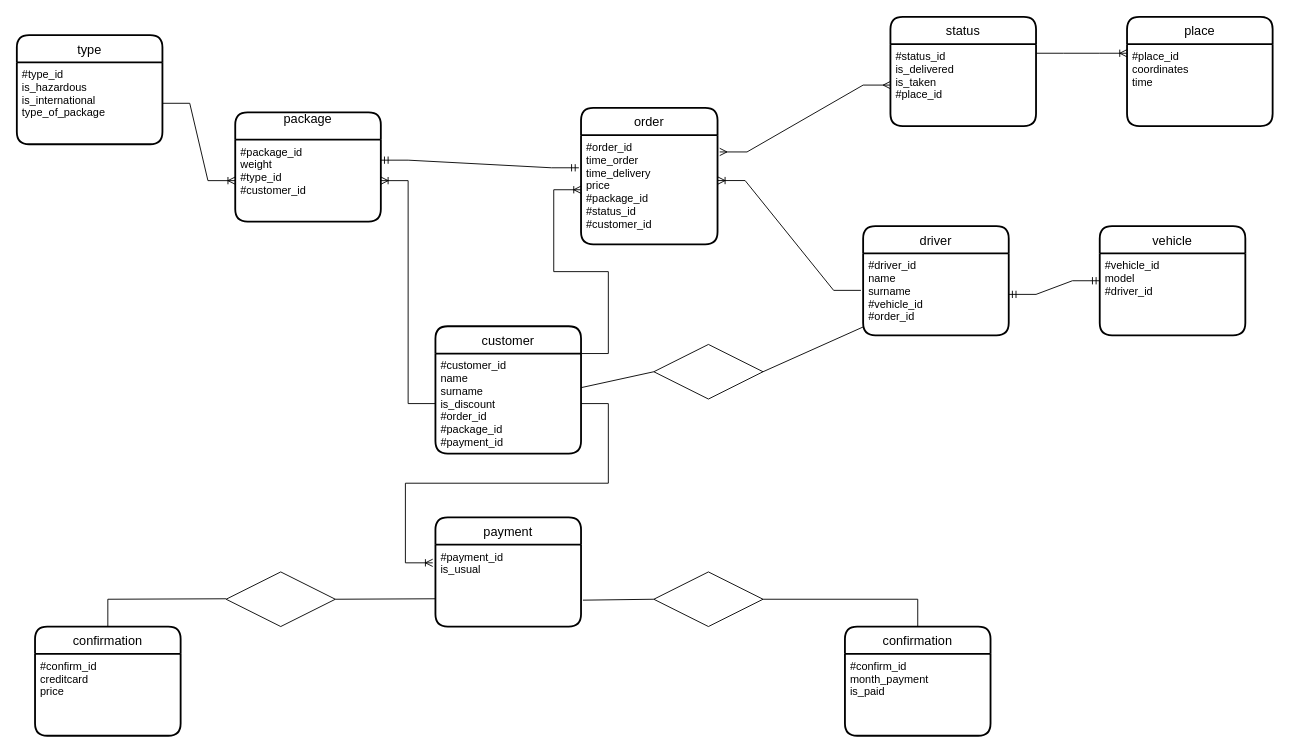
Image size: 1289x752. Some labels were removed from this diagram. The shapes that lost their labels are listed below. From the top down, each one's centre as x and y in pixels, then its label:
At (708,371): "order_details".
At (280,599): "no".
At (708,599): "yes".
